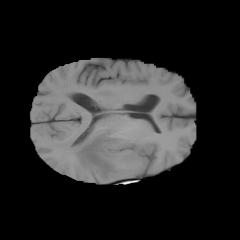glioma: (69, 130, 142, 179)
